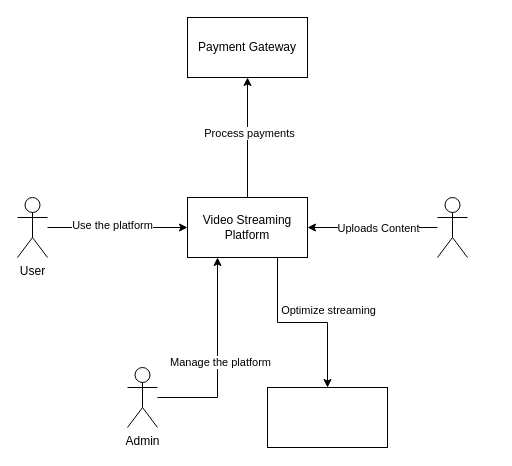
Image size: 512x466. Some labels were removed from this diagram. Each missing label, with the centre of its shape:
CDN: point (327, 417)
Content Creator: point (452, 227)
